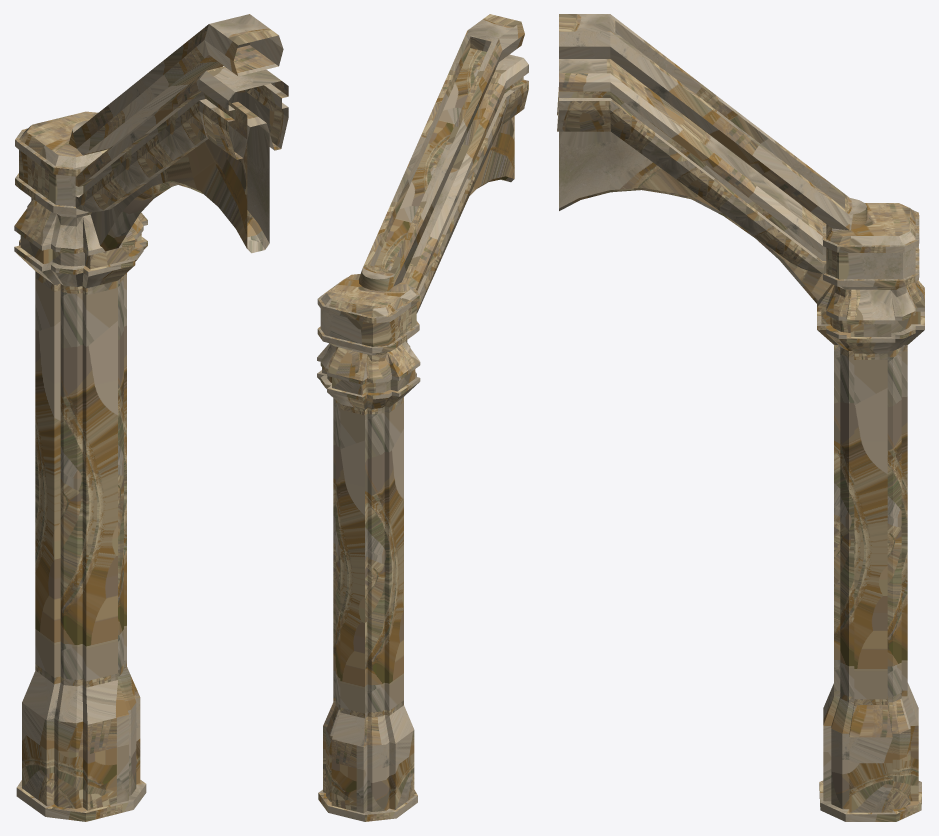
Rendered from SM_pillar_02.fbx.
3 views of the same model, side by side, from view 1: azimuth 30°, elevation 25°; view 2: azimuth 150°, elevation 25°; view 3: azimuth 270°, elevation 25° (orthographic). The views are drawn at different scales.
Visible parts, largest first — view 1: polySurface27736; view 2: polySurface27736; view 3: polySurface27736.
Boxes of the visible parts, x1,y1,x2,y2 form: polySurface27736: (14,14,288,821); polySurface27736: (317,14,528,821); polySurface27736: (557,14,924,821).
Size of the model in its own units: 352 by 2805 by 1202.
